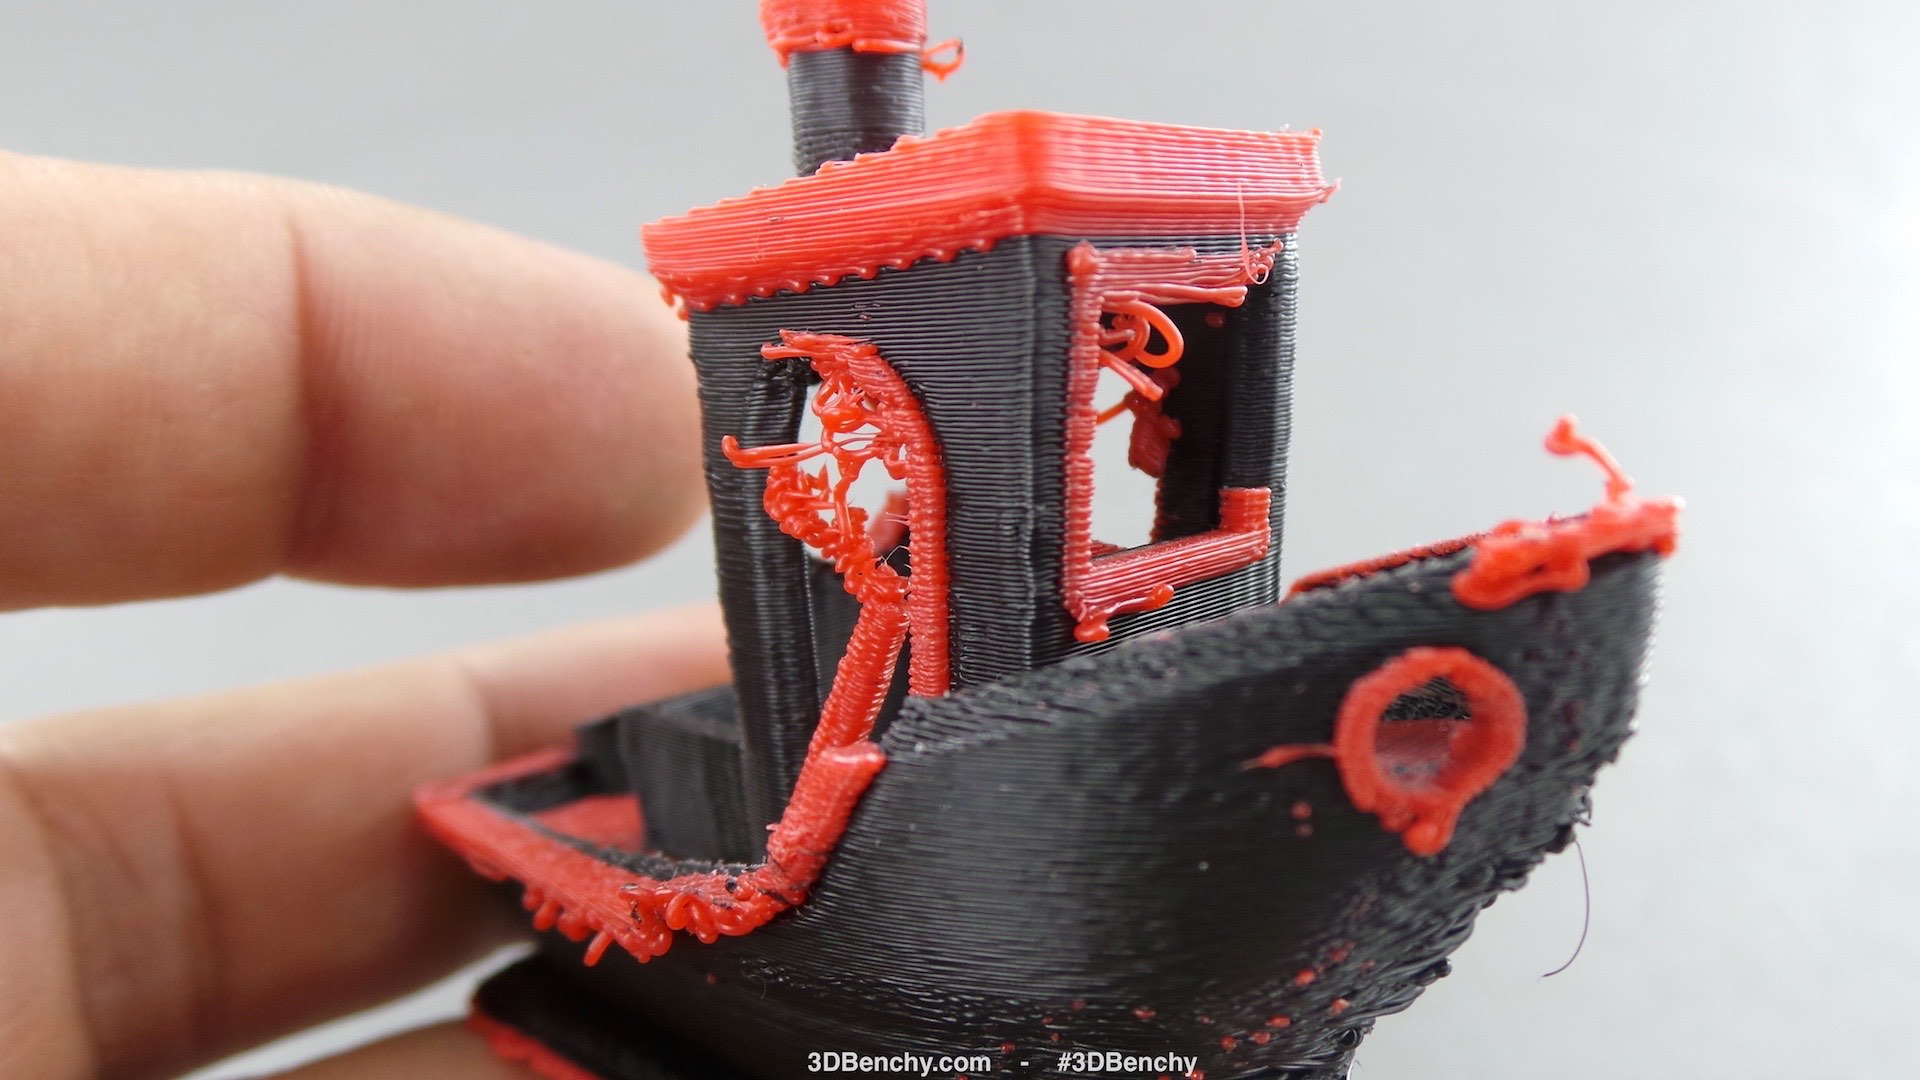fail: (1287, 720, 1609, 1042), (702, 316, 956, 615), (1477, 397, 1705, 584), (477, 866, 858, 971), (1069, 266, 1244, 426), (891, 26, 986, 84)
